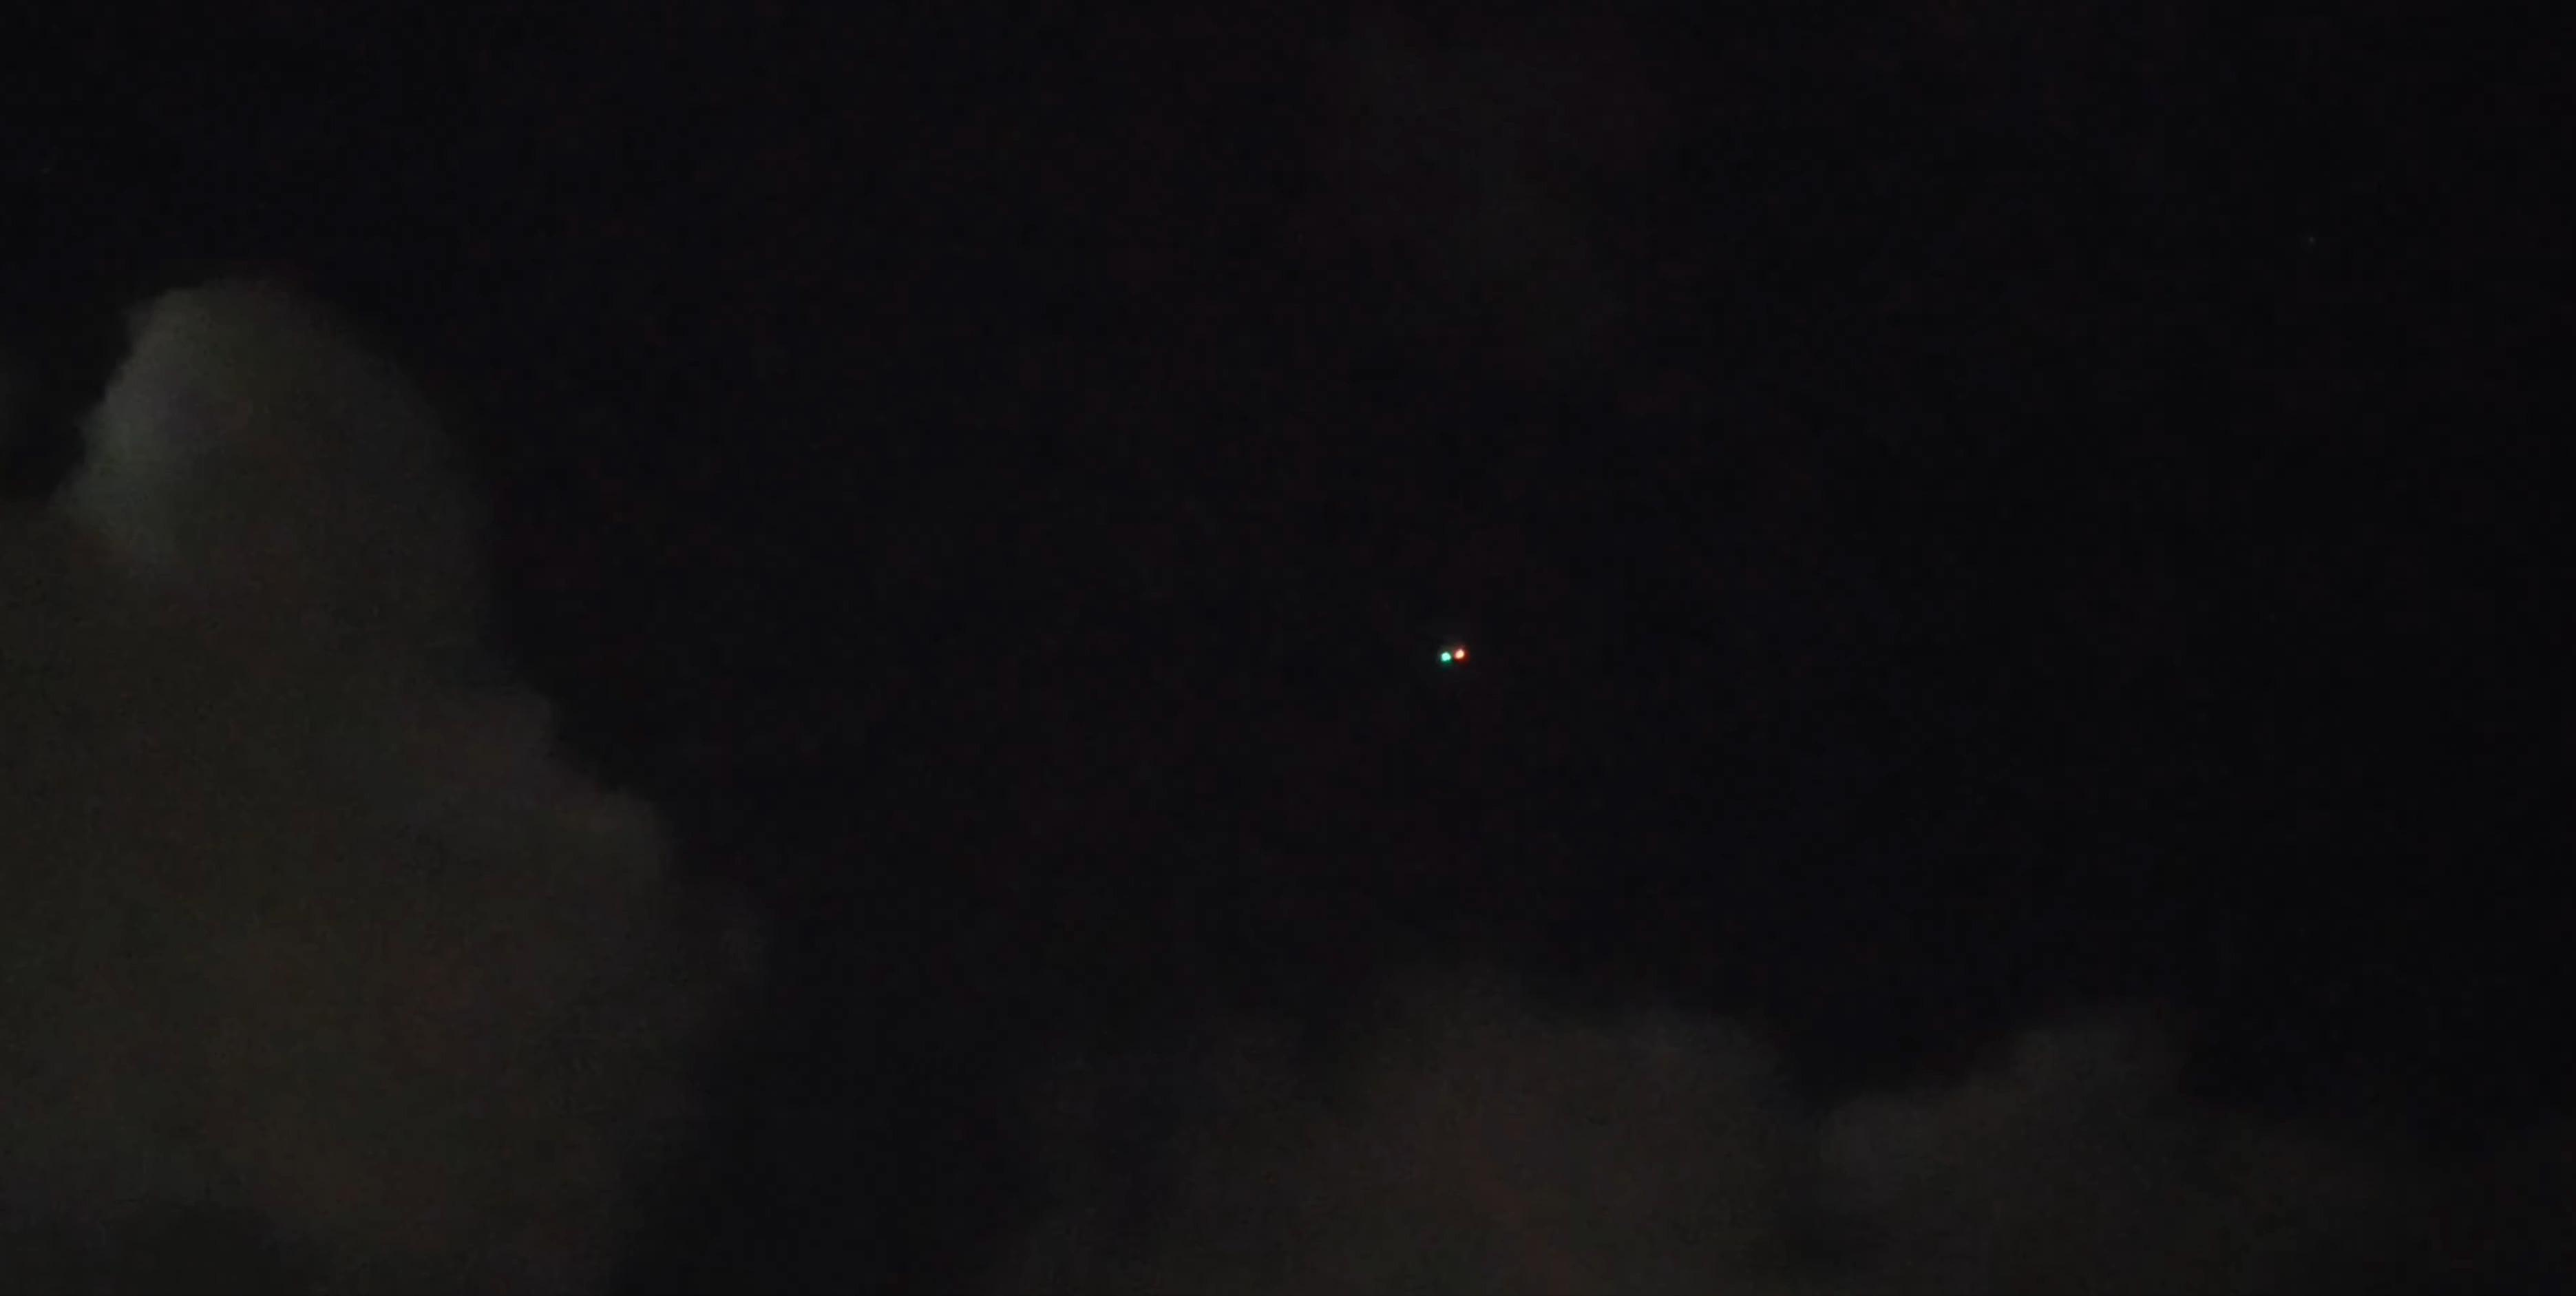Plane: (1388, 622, 1519, 688)
